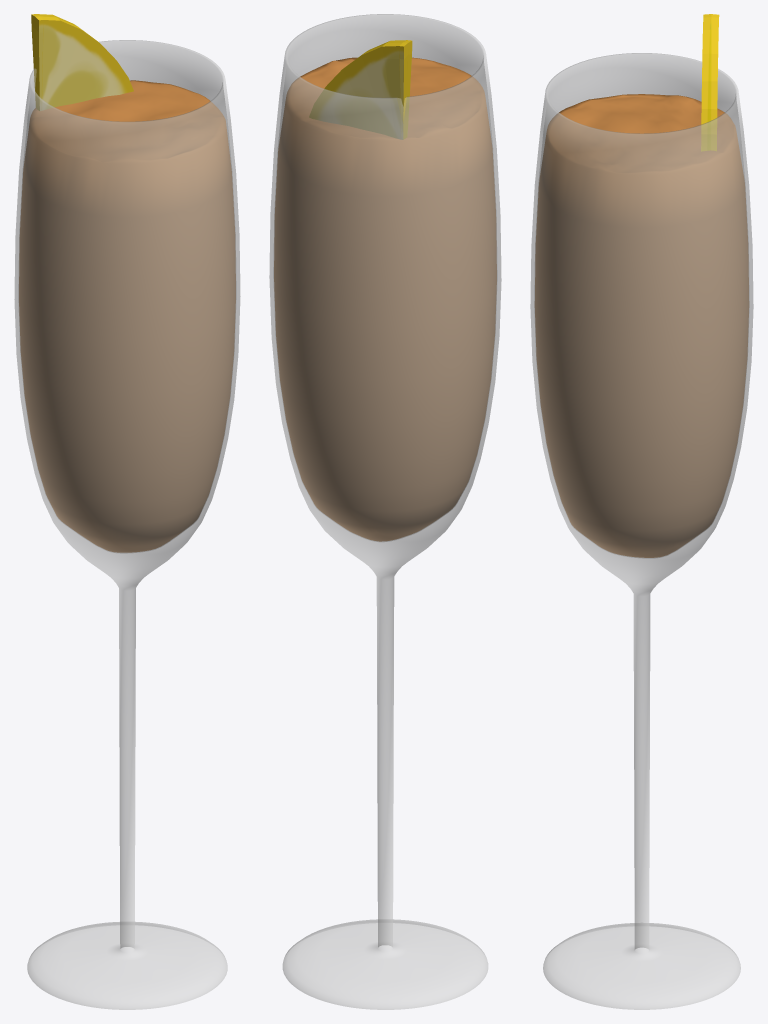
File: french-72.glb
3 renders of one model, left to right at view 1: azimuth 30°, elevation 25°; view 2: azimuth 150°, elevation 25°; view 3: azimuth 270°, elevation 25°, orthographic. The views are drawn at different scales.
Visible parts, largest first — view 1: french-72; view 2: french-72; view 3: french-72.
Boxes of the visible parts, bbox=[...] form: french-72: bbox=[14, 14, 240, 1009]; french-72: bbox=[269, 14, 501, 1009]; french-72: bbox=[530, 14, 753, 1009].
Size of what is drawn, in the model's own units: 0.0613 by 0.2809 by 0.0613.
3 materials, 1 textured.
